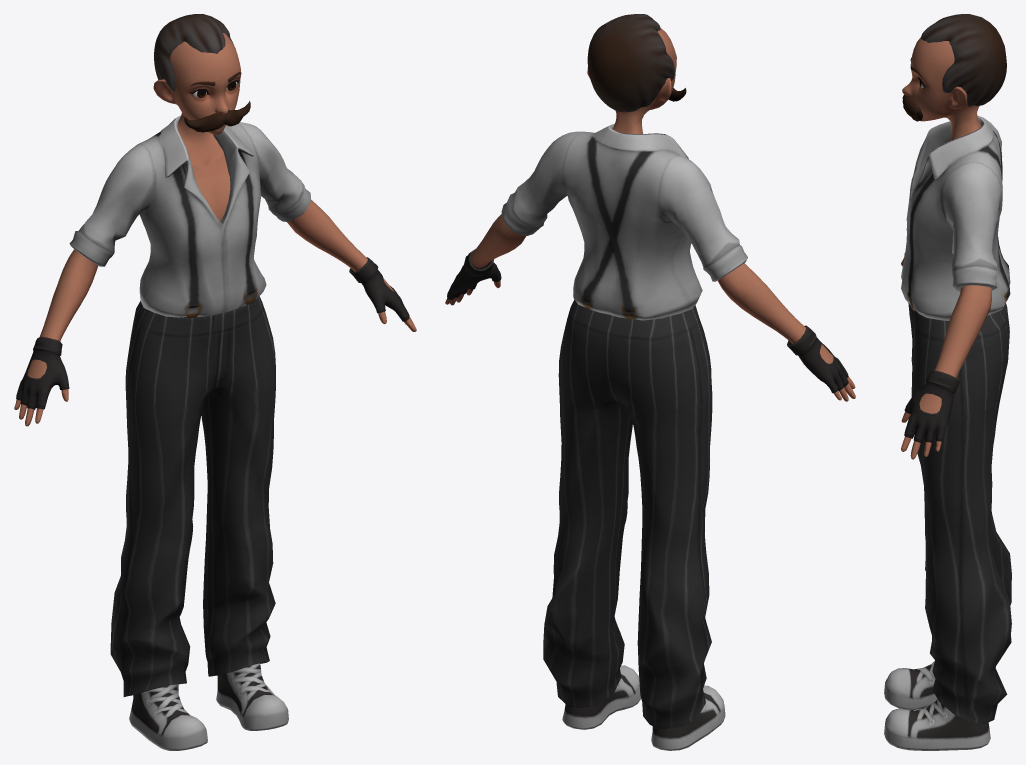
File: StaffOttoman_Mesh.obj
3 renders of one model, left to right at view 1: azimuth 30°, elevation 25°; view 2: azimuth 150°, elevation 25°; view 3: azimuth 270°, elevation 25°, orthographic. The views are drawn at different scales.
Parts seen in each view (by area): view 1: StaffOttoman_Mesh_0; view 2: StaffOttoman_Mesh_0; view 3: StaffOttoman_Mesh_0.
Boxes of the visible parts, box(x1,y1,x2,y2) form: StaffOttoman_Mesh_0: box(14, 14, 416, 750); StaffOttoman_Mesh_0: box(445, 14, 855, 750); StaffOttoman_Mesh_0: box(884, 14, 1011, 750).
Bounding box in the file's own units: 1.06 × 1.8 × 0.2966.
1 material, 1 textured.
